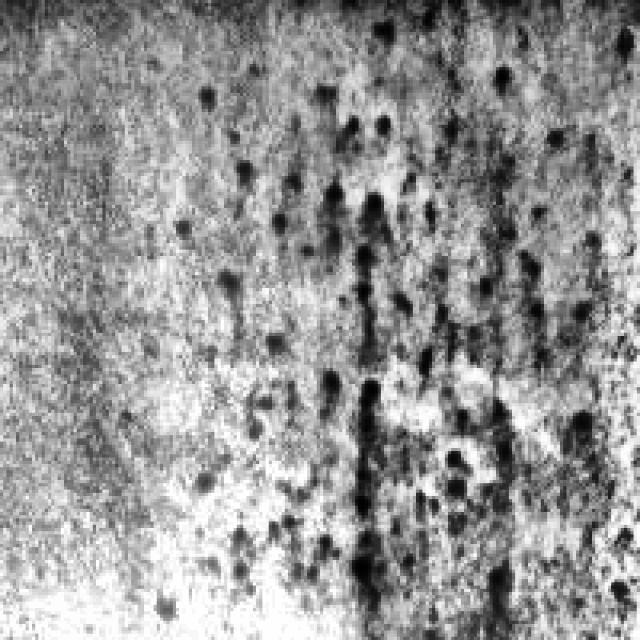Rolled_in_Scale: (195, 64, 563, 598)
